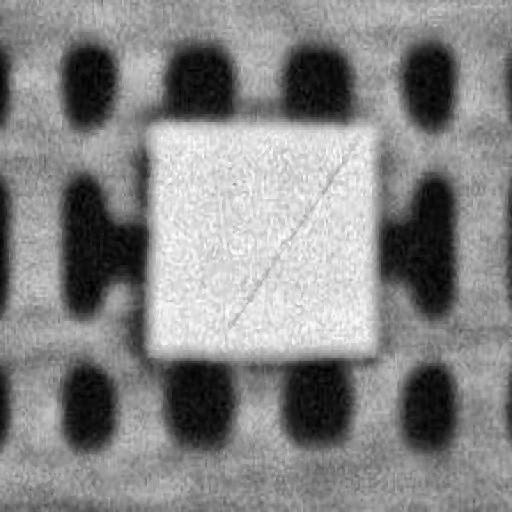DIE_CRACK: (342, 89, 512, 216)
